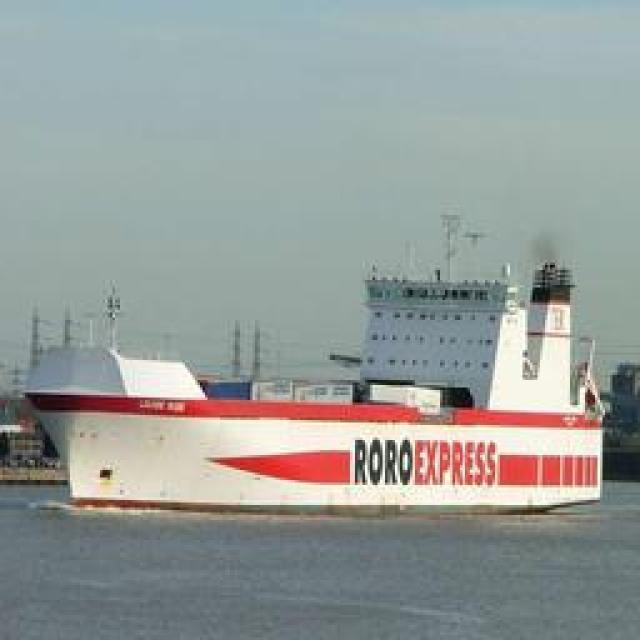ship2: (24, 247, 610, 523)
